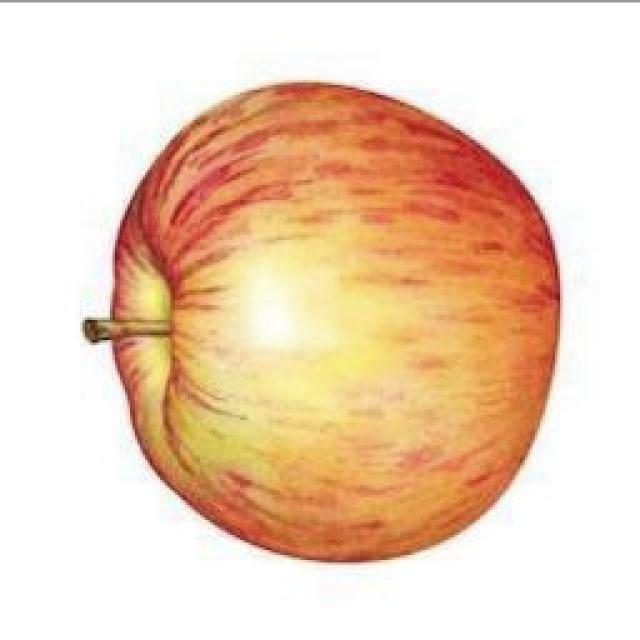Apple: (92, 84, 560, 560)
